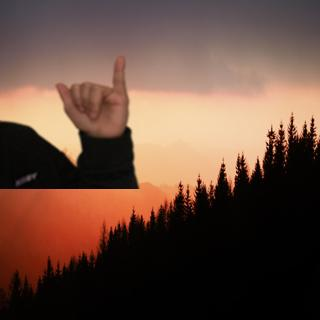HAVE: (50, 50, 138, 142)
